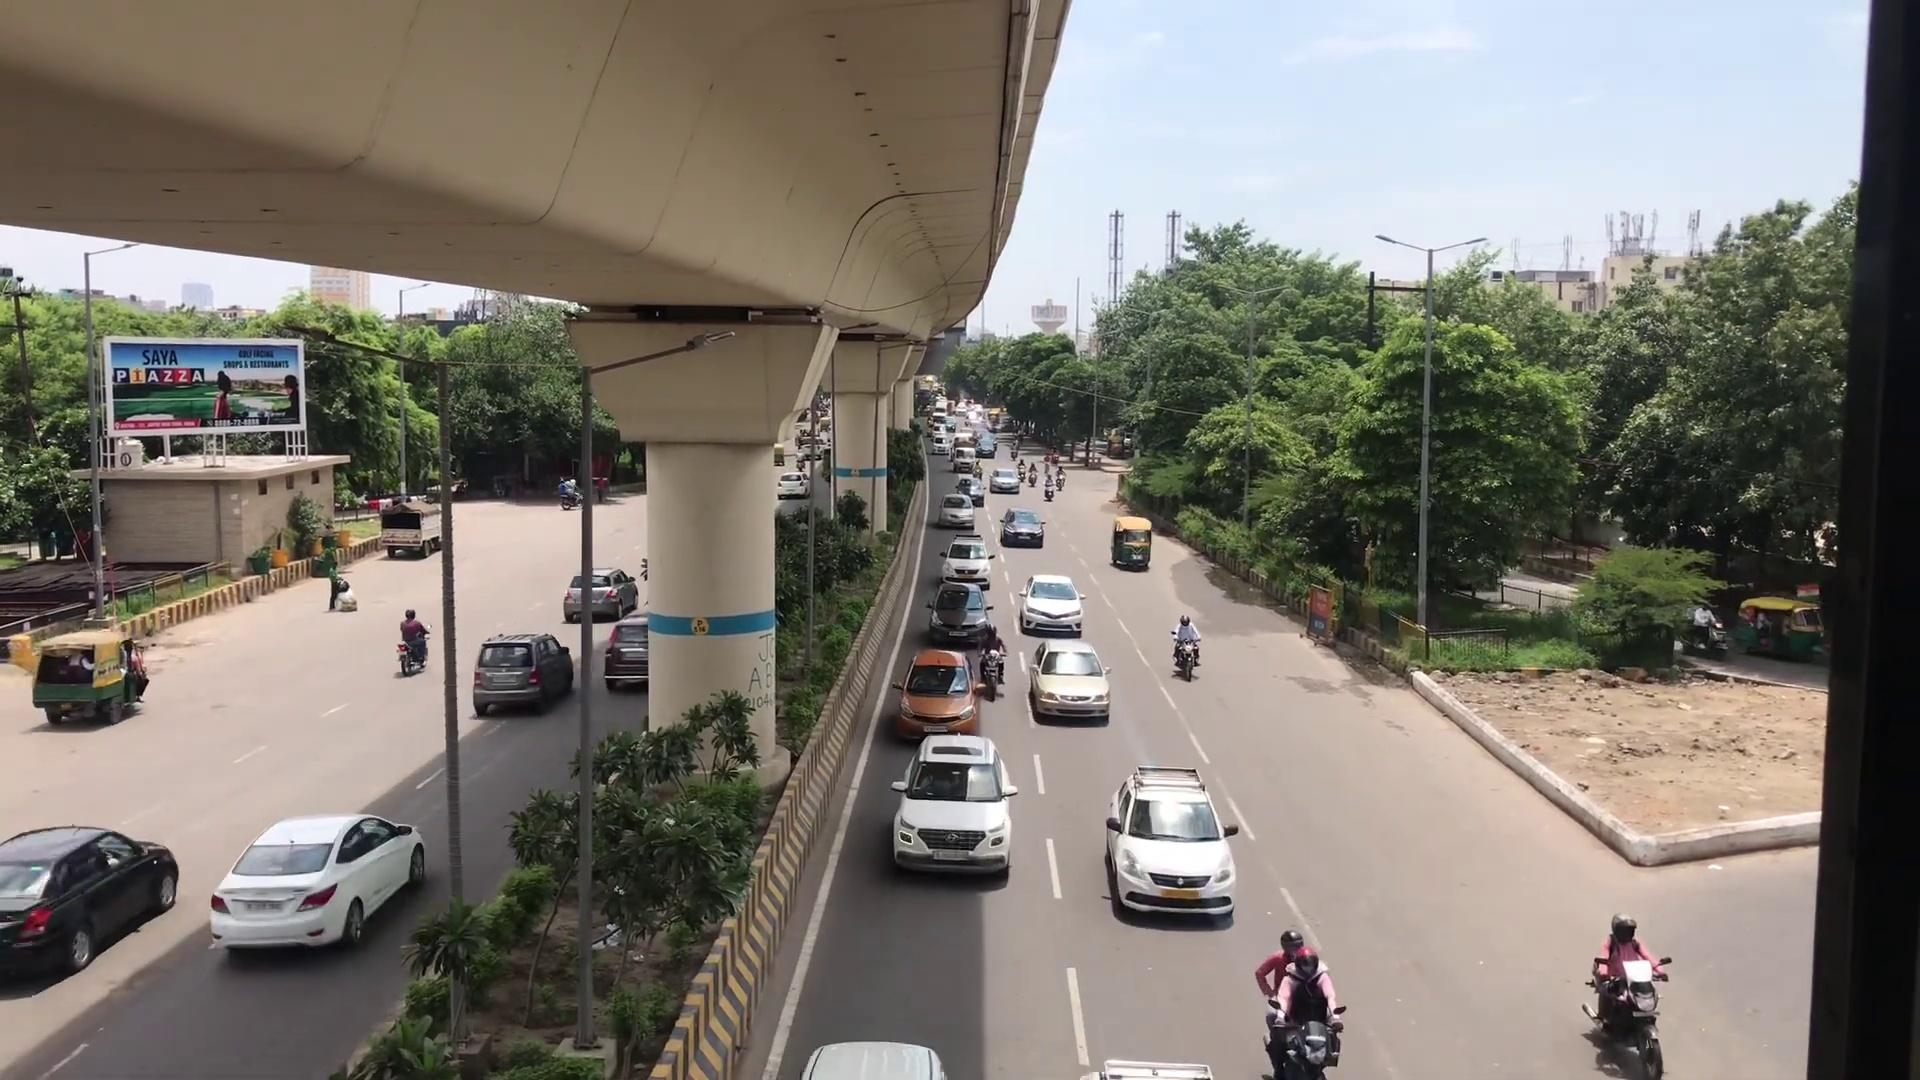Auto: (30, 624, 146, 727)
Bike: (1584, 906, 1669, 1077), (1255, 920, 1345, 1079), (976, 621, 1010, 704), (1170, 612, 1204, 683), (397, 603, 429, 676)
